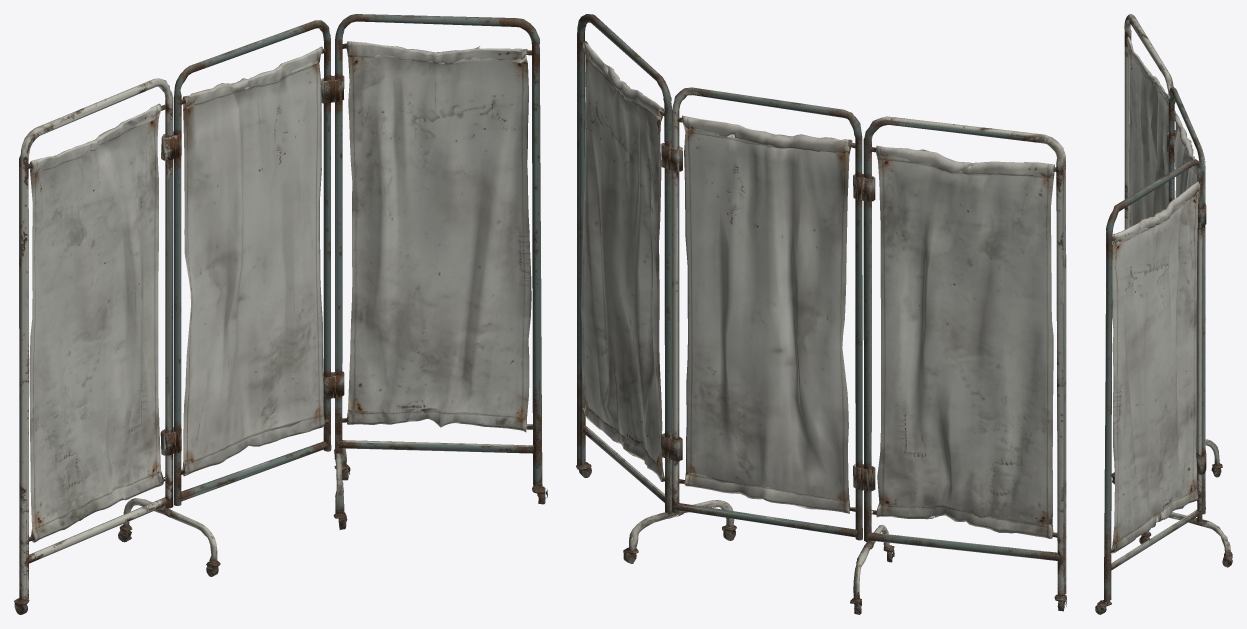
File: silo81_medscreen.glb
3 renders of one model, left to right at view 1: azimuth 30°, elevation 25°; view 2: azimuth 150°, elevation 25°; view 3: azimuth 270°, elevation 25°, orthographic. The views are drawn at different scales.
Size of the model in its own units: 0.9561 by 0.8604 by 0.2646.
1 material, 1 textured.
